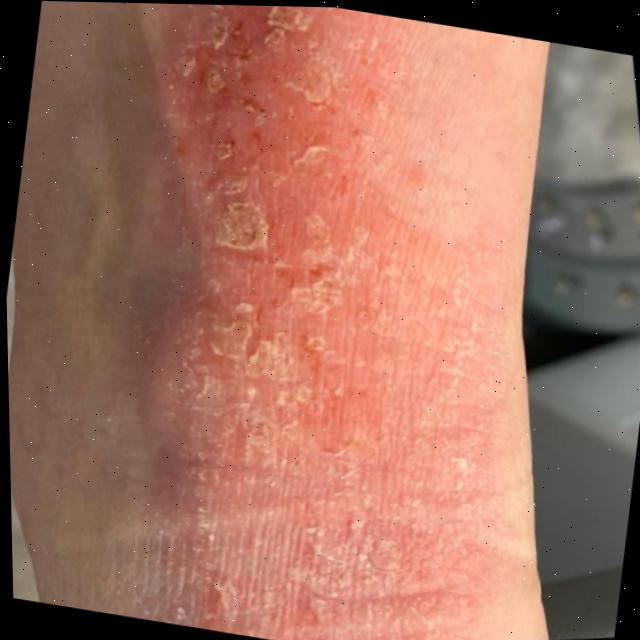Eczema: (66, 1, 498, 640)
